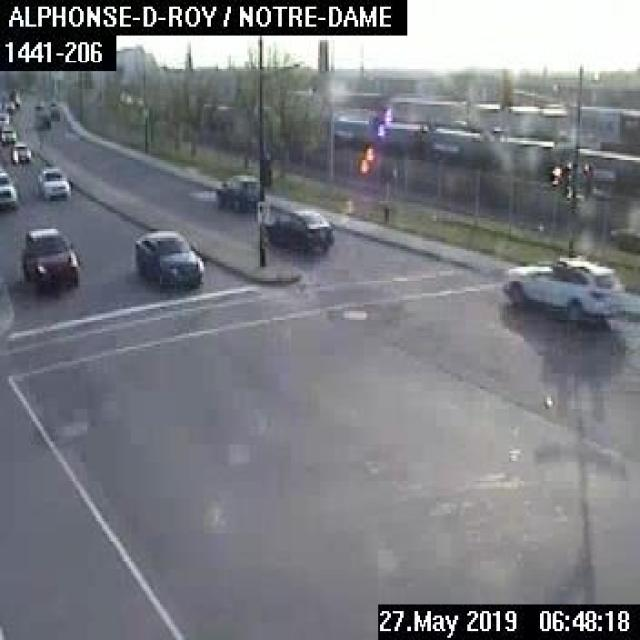vehicle: (500, 251, 626, 323), (131, 226, 202, 286), (252, 202, 332, 251), (20, 224, 78, 286), (213, 171, 258, 211), (35, 162, 69, 196), (0, 169, 15, 207), (9, 140, 30, 164), (0, 122, 15, 144), (45, 96, 58, 110), (0, 110, 9, 126), (33, 98, 42, 112)
